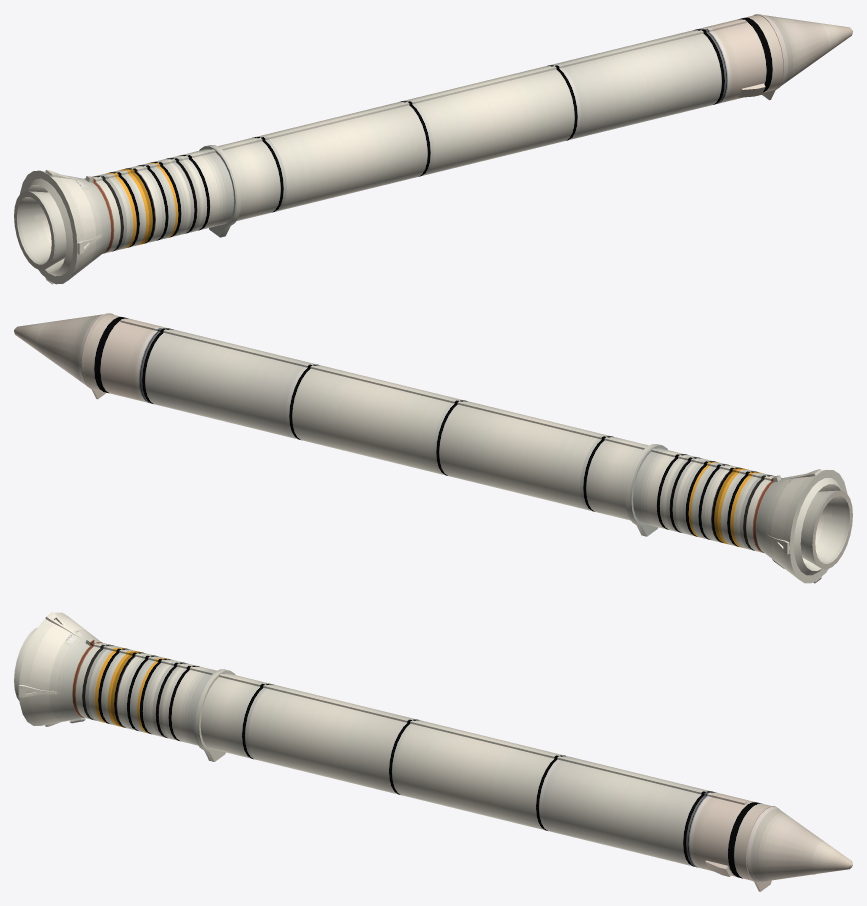
The model's file is shuttle-srb.glb.
3 renders of one model, top to bottom at view 1: azimuth 30°, elevation 25°; view 2: azimuth 150°, elevation 25°; view 3: azimuth 330°, elevation 25°, orthographic.
Parts seen in each view (by area): view 1: srb.layer1; view 2: srb.layer1; view 3: srb.layer1.
Part boxes in pixels (x1,y1,x2,y2): srb.layer1: (14, 14, 852, 284); srb.layer1: (14, 313, 852, 583); srb.layer1: (14, 612, 852, 891).
Size of the model in its own units: 45.5 by 5.86 by 5.86.
1 material, 1 textured.
